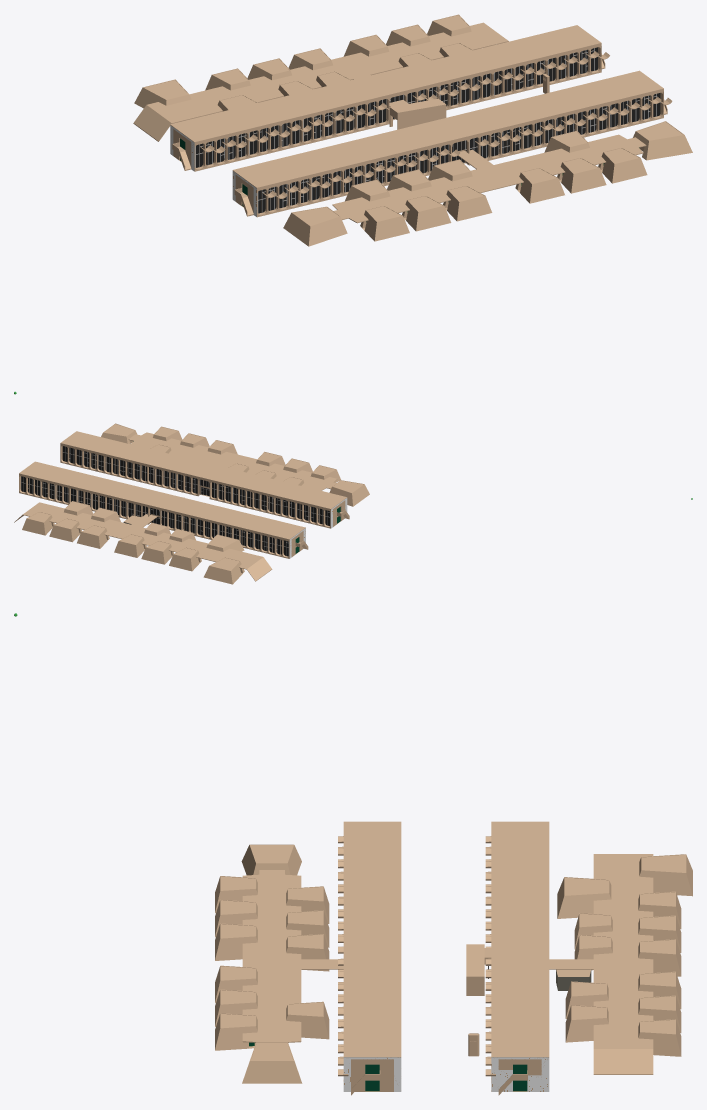
3 renders of one model, top to bottom at view 1: azimuth 30°, elevation 25°; view 2: azimuth 150°, elevation 25°; view 3: azimuth 270°, elevation 25°, orthographic. The views are drawn at different scales.
Parts seen in each view (by area): view 1: 100-400, amphi; view 2: 100-400, amphi; view 3: amphi, 100-400.
Boxes of the visible parts, box(x1,y1,x2,y2) form: 100-400: box(170, 25, 667, 217); amphi: box(133, 14, 692, 246); 100-400: box(19, 431, 349, 558); amphi: box(14, 423, 369, 584); amphi: box(215, 836, 692, 1083); 100-400: box(343, 821, 549, 1095).
Bounding box in the file's own units: 254 × 10.16 × 158.
Materials: 1 (1 with a texture image).
